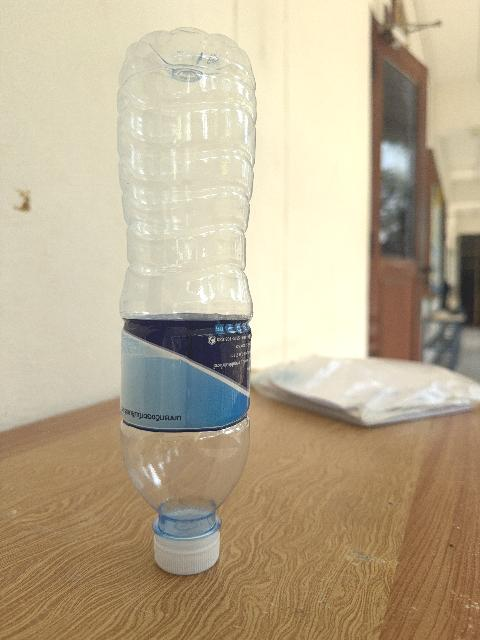bottle: (117, 29, 254, 573)
